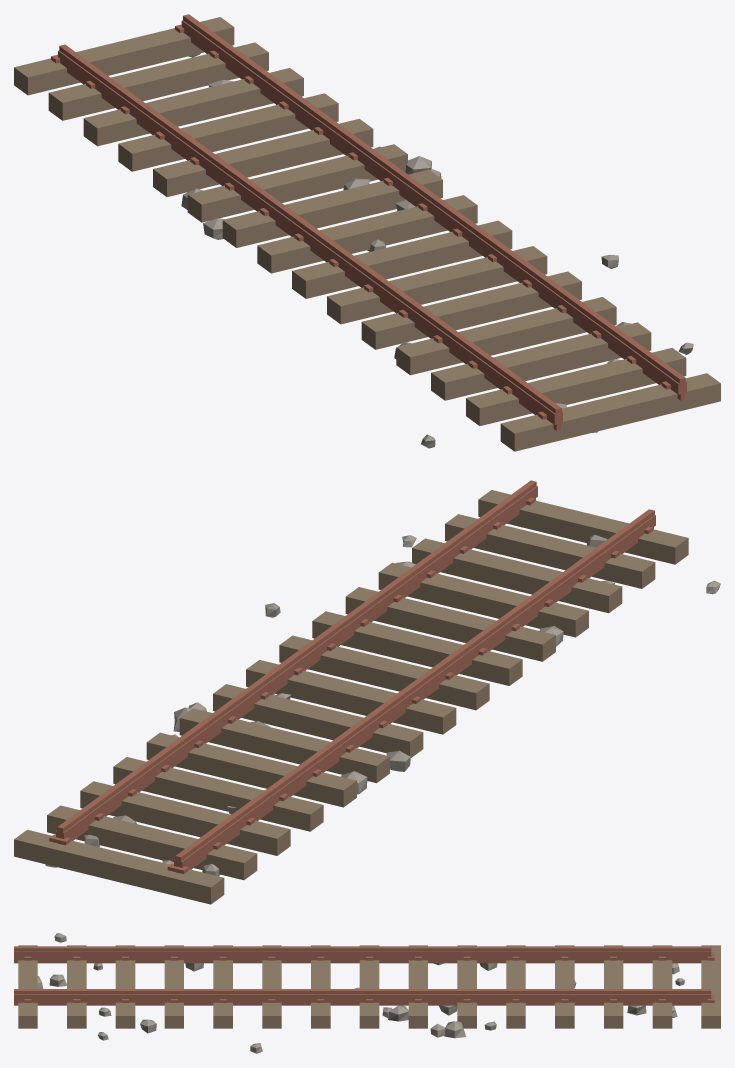
File: usui_old_railway_track.glb
3 renders of one model, top to bottom at view 1: azimuth 30°, elevation 25°; view 2: azimuth 150°, elevation 25°; view 3: azimuth 270°, elevation 25°, orthographic. The views are drawn at different scales.
Parts seen in each view (by area): view 1: usui_old_railway_track; view 2: usui_old_railway_track; view 3: usui_old_railway_track.
Part boxes in pixels (bbox=[...]): usui_old_railway_track: bbox=[14, 14, 720, 451]; usui_old_railway_track: bbox=[14, 480, 720, 904]; usui_old_railway_track: bbox=[14, 933, 720, 1053].
Bounding box in the file's own units: 3.9 × 0.5056 × 10.14.
